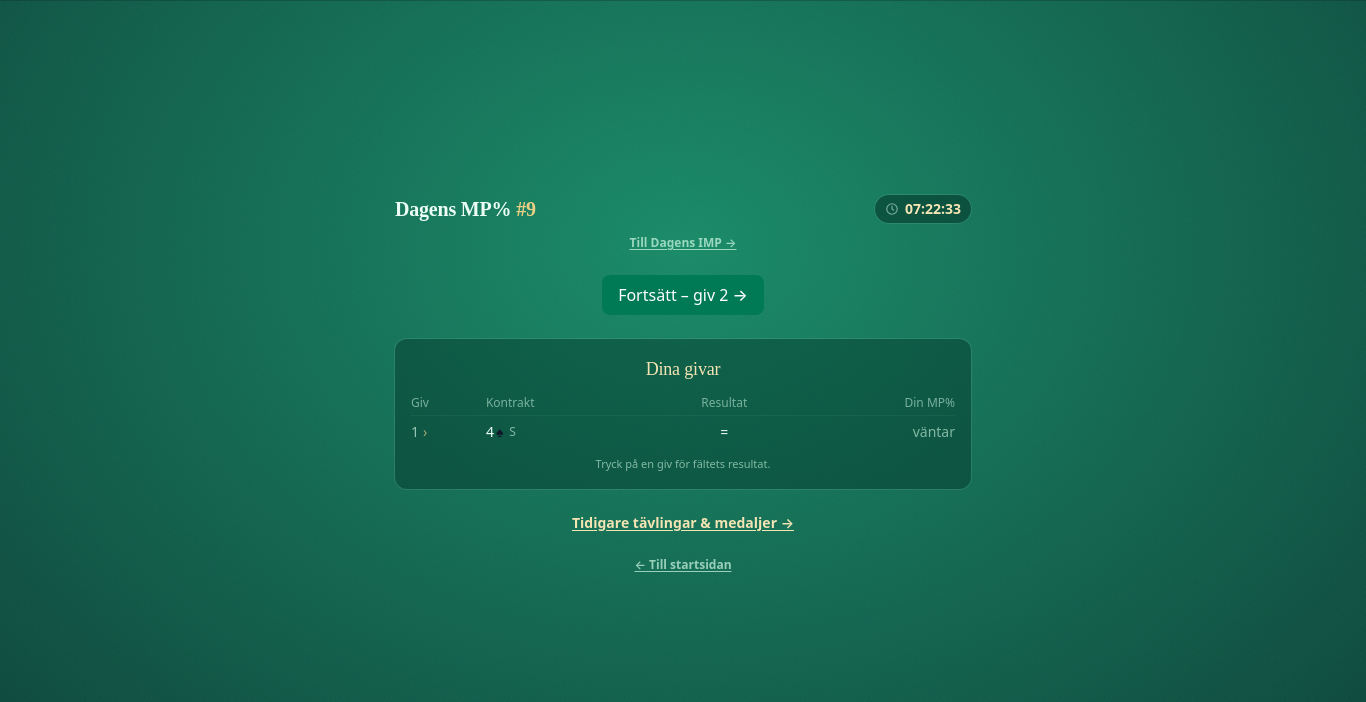
Test: Dagens tävling — hämtningens utfall (inloggad) › travellern (Påbyggnad 3): klick på en annan spelares rad → "Så spelade X given" med stegningen
The image size is (1366, 702).
Expected: the heading "Dina givar" is shown, [646, 359, 720, 379]
Click the button titled "Visa fältets resultat" at (934, 432), box [411, 416, 955, 448]
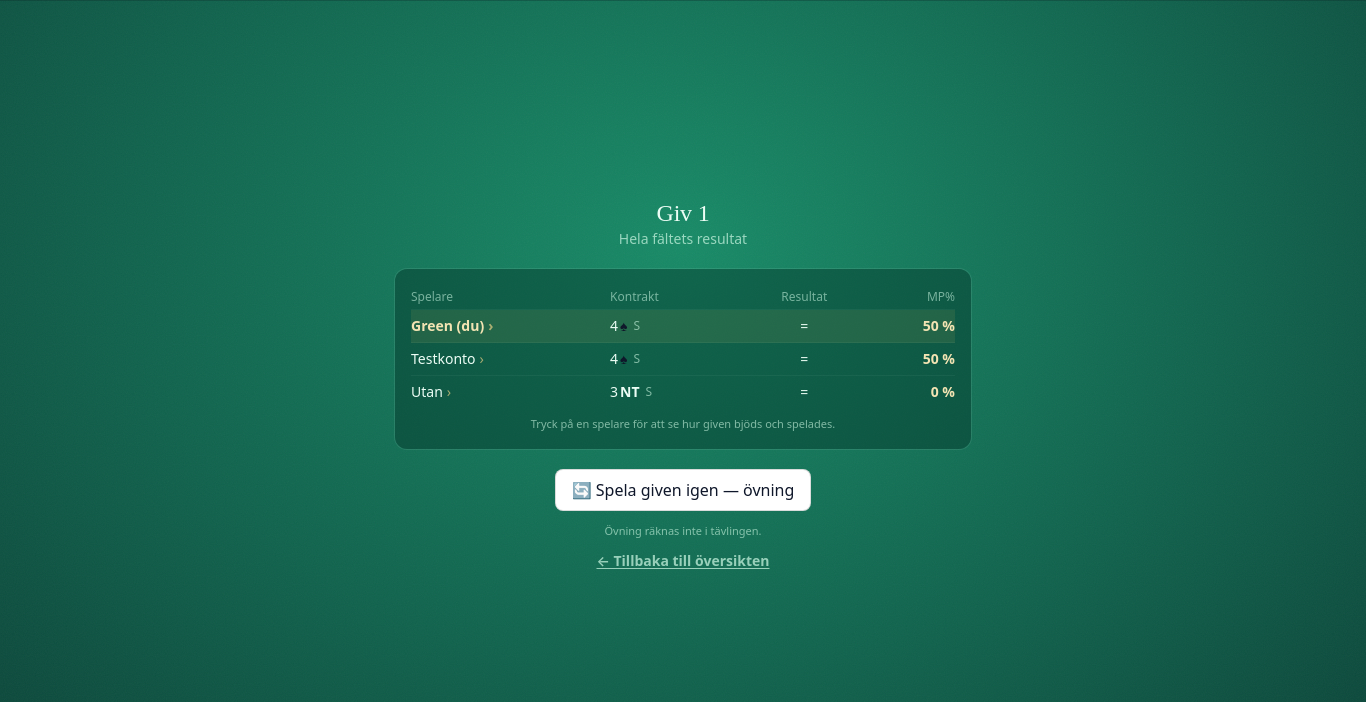
Result: the text "Hela fältets resultat" is shown at [619, 229, 747, 248]
Click the button titled "Se hur Testkonto spelade given" at (443, 358), box [411, 342, 955, 376]
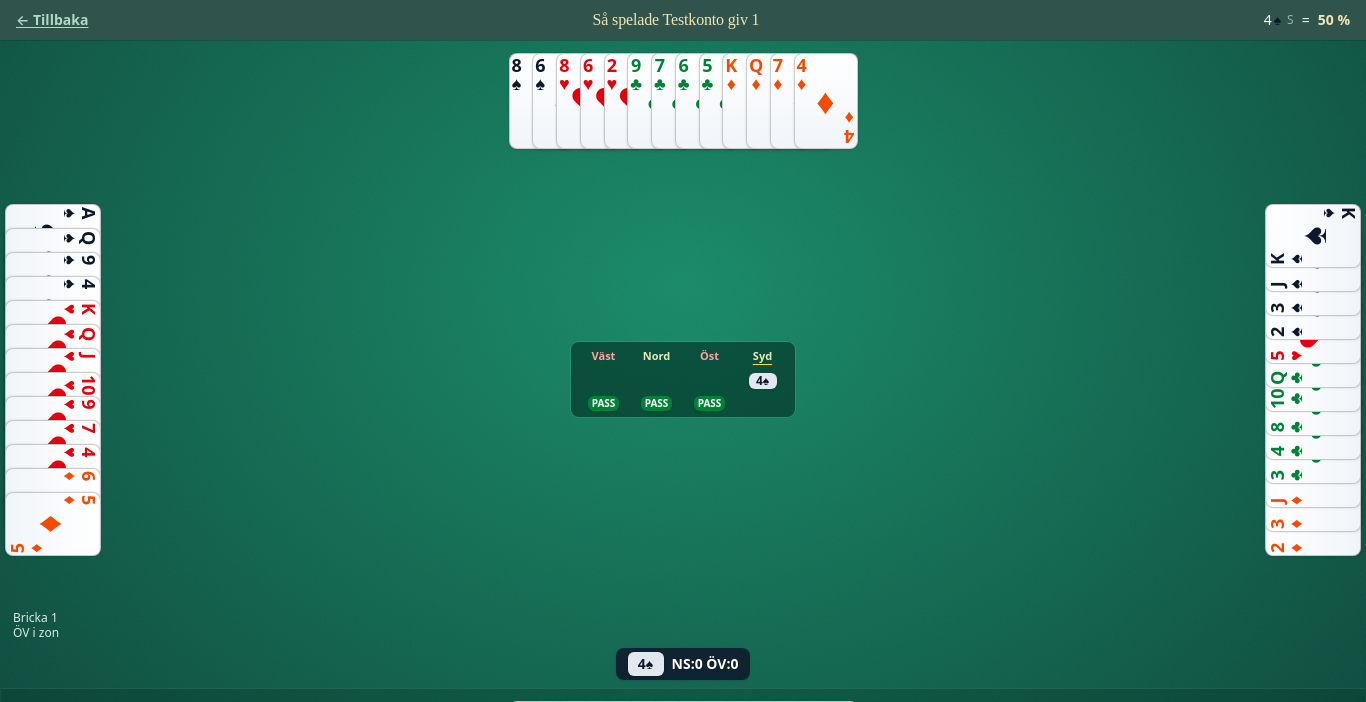
Result: the heading "Så spelade Testkonto giv 1" is shown at [593, 11, 760, 28]
Result: the text "Bricka 1" is shown at [13, 609, 58, 626]
Click the button "← Tillbaka" at (52, 20), box [16, 10, 88, 30]
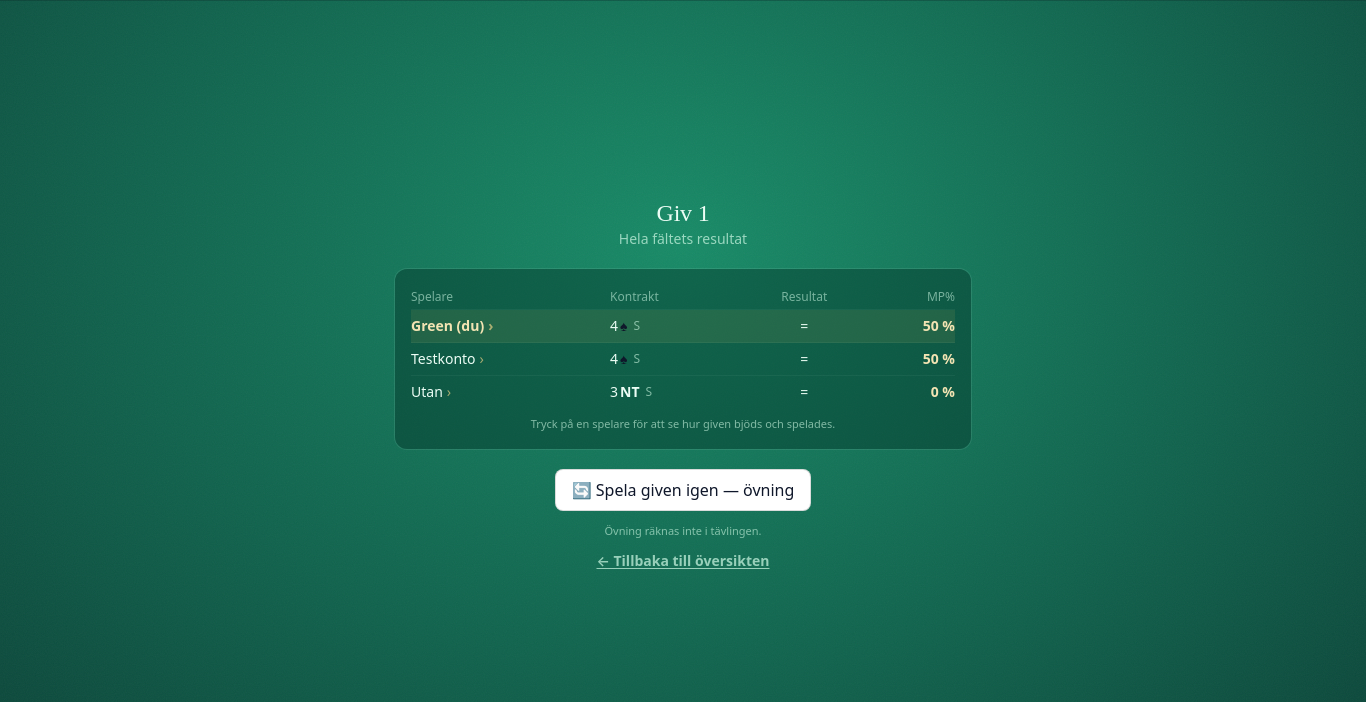
Result: the text "Hela fältets resultat" is shown at [619, 229, 747, 248]
Click the button titled "Se hur du spelade given" at (432, 326), box [411, 310, 955, 342]
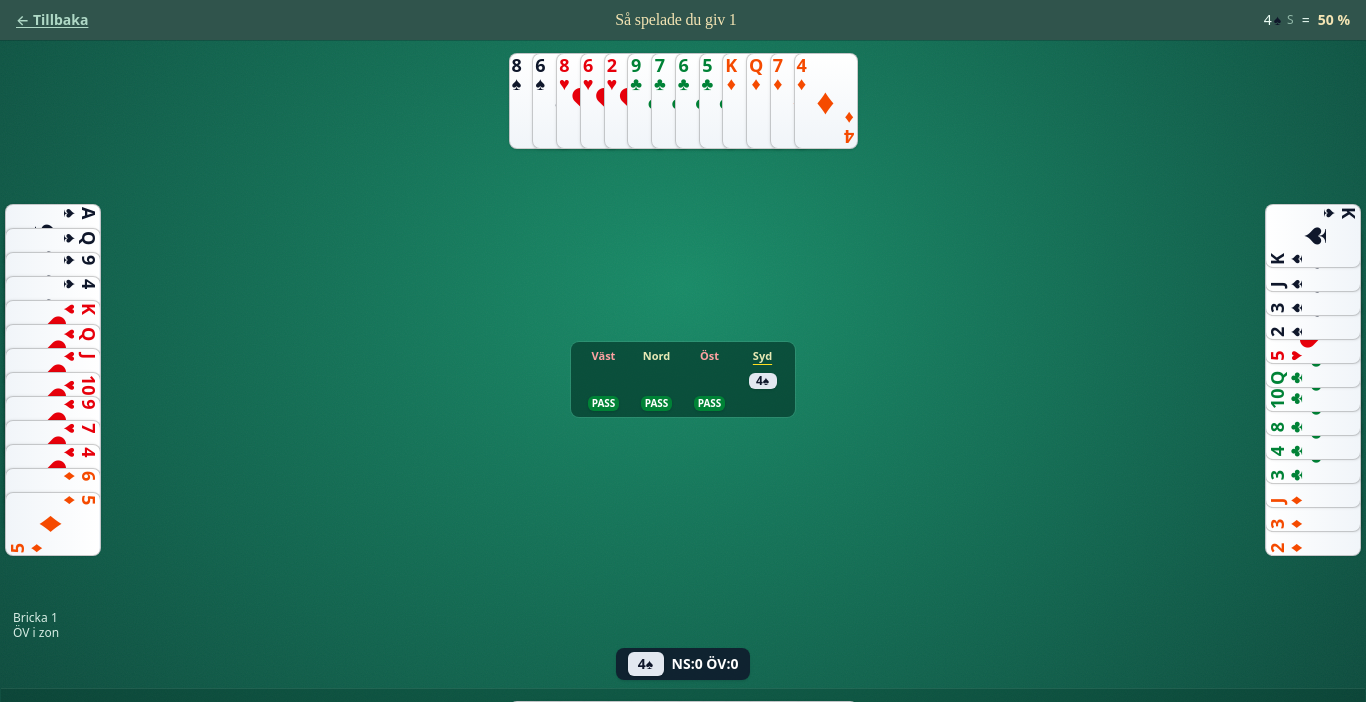
Result: the heading "Så spelade du giv 1" is shown at [615, 11, 737, 28]
# Rad utan sparade kort → vänligt meddelande i stället för krasch.
Click the button "← Tillbaka" at (52, 20), box [16, 10, 88, 30]
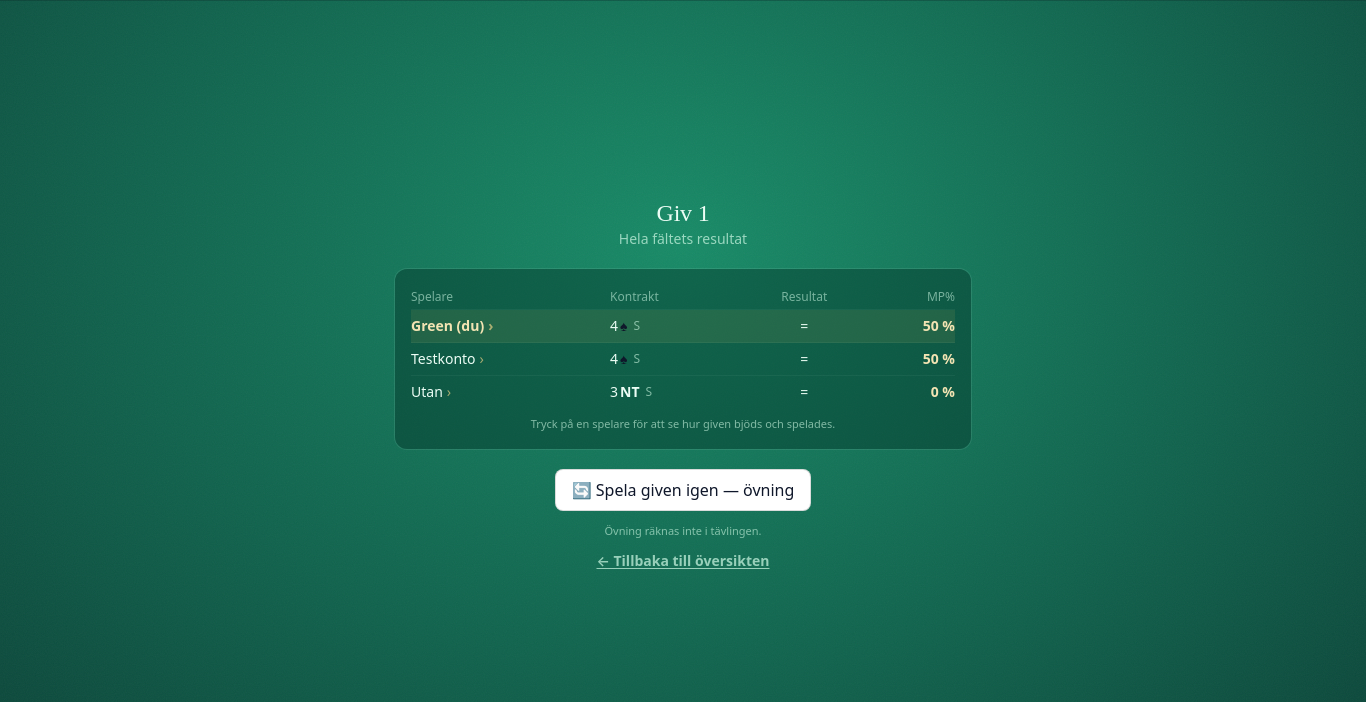
Result: the text "Hela fältets resultat" is shown at [619, 229, 747, 248]
Click the button titled "Se hur Utan spelade given" at (427, 392), box [411, 376, 955, 408]
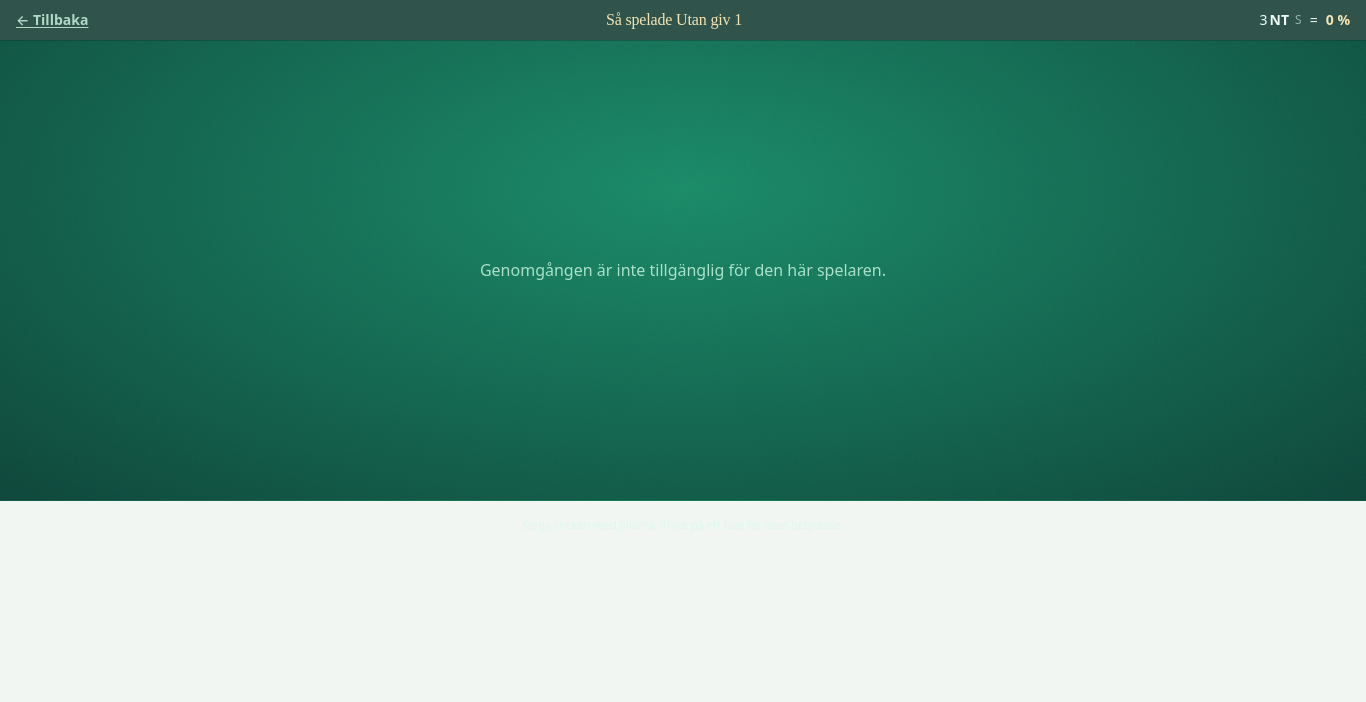
Result: the text "Genomgången är inte tillgänglig för den här spelaren." is shown at [480, 258, 886, 282]
